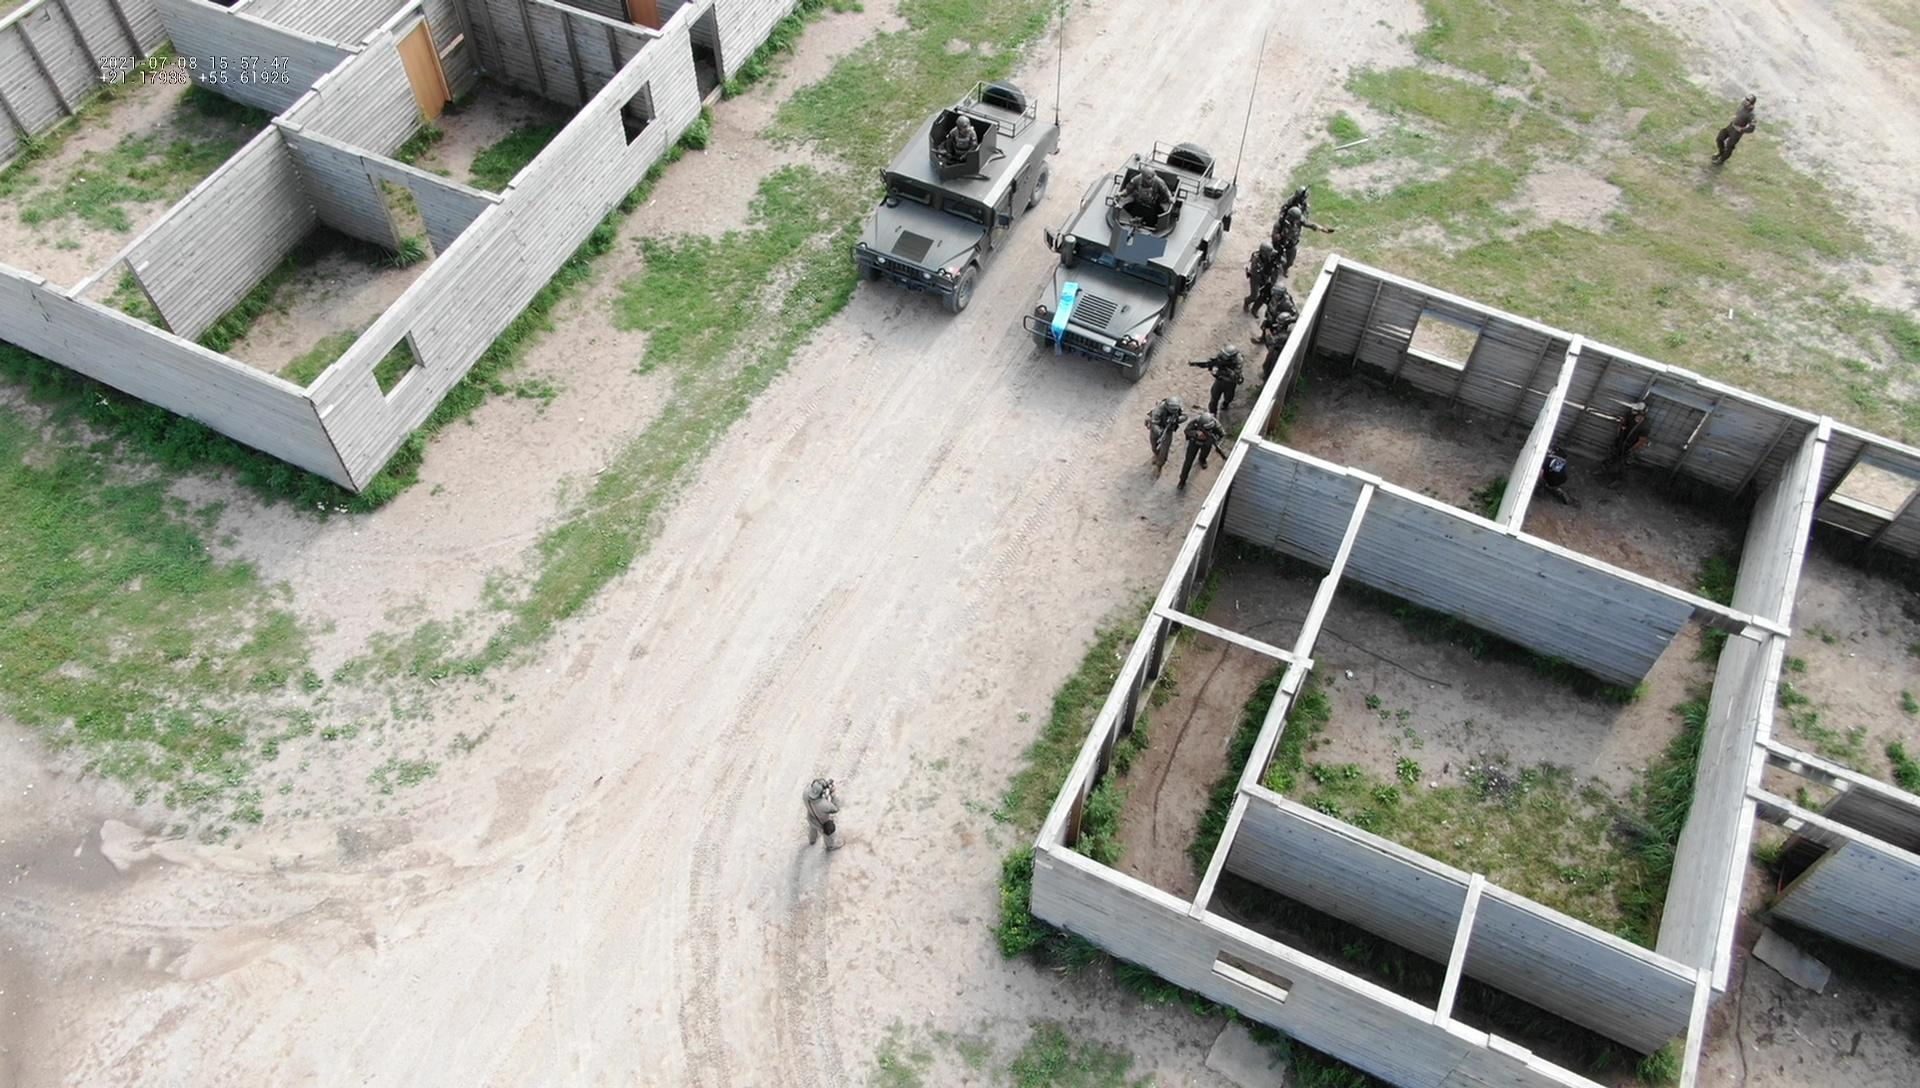Soldier: (1706, 78, 1778, 175), (793, 774, 852, 860), (1191, 343, 1259, 411), (1604, 404, 1659, 487), (930, 116, 992, 190), (1240, 239, 1294, 314), (1149, 396, 1200, 473), (1279, 177, 1331, 252), (1122, 162, 1172, 239), (1184, 406, 1226, 487), (1261, 284, 1304, 353), (1542, 442, 1578, 510)
